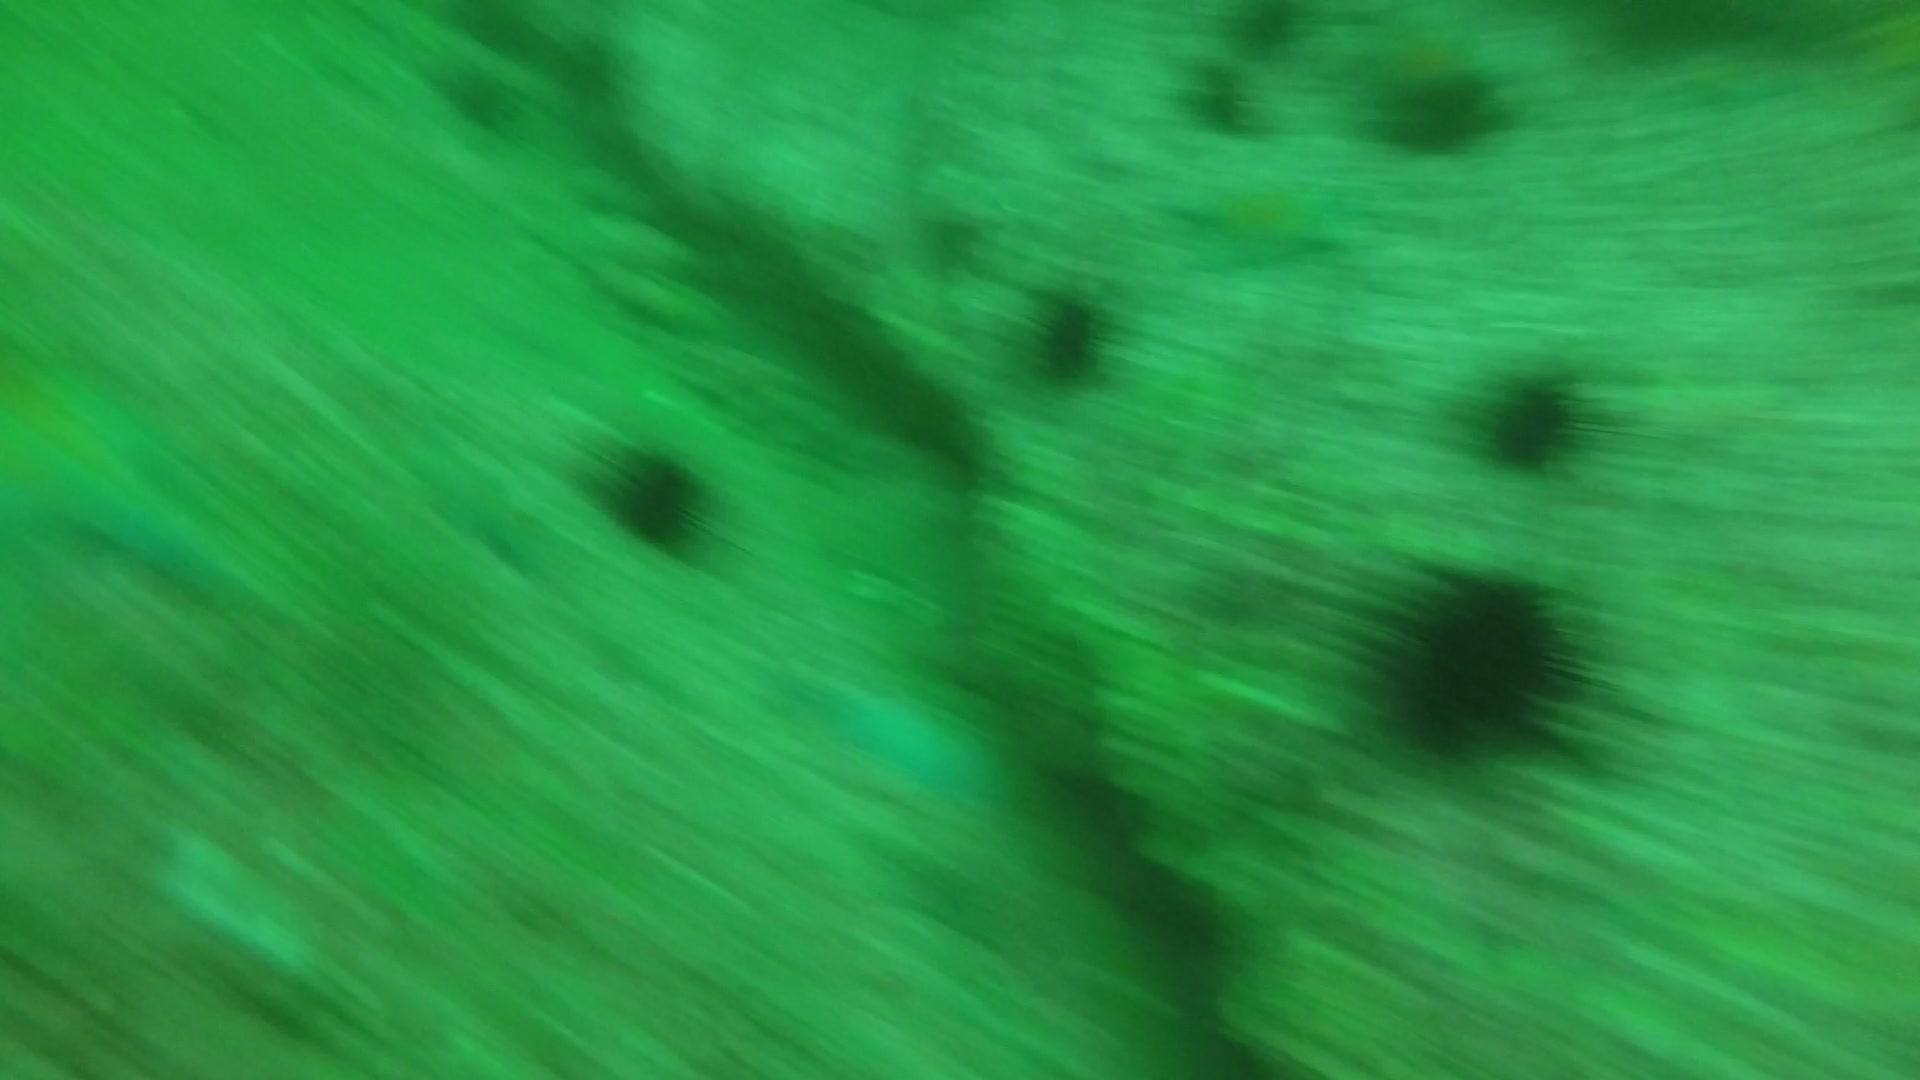echinus: (1353, 556, 1593, 762), (1464, 361, 1597, 481), (588, 436, 717, 556), (1366, 59, 1513, 164), (1018, 281, 1122, 392), (1175, 57, 1266, 140), (436, 59, 524, 138), (1215, 0, 1316, 62)
starfish: (0, 349, 255, 607), (783, 655, 1011, 818), (1166, 166, 1352, 276)
